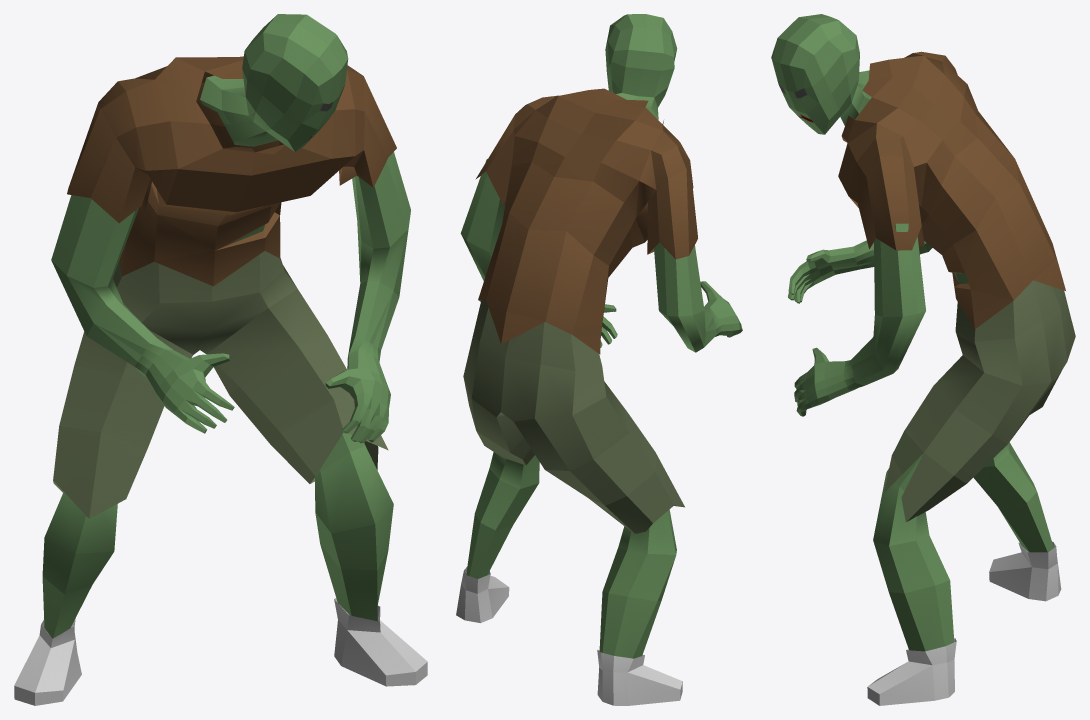
File: ZombieIdle(78).obj
3 views of the same model, side by side, from view 1: azimuth 30°, elevation 25°; view 2: azimuth 150°, elevation 25°; view 3: azimuth 270°, elevation 25° (orthographic). The views are drawn at different scales.
Parts seen in each view (by area): view 1: Object001; view 2: Object001; view 3: Object001.
Part boxes in pixels (box(x1,y1,x2,y2)): Object001: box(14, 14, 427, 705); Object001: box(456, 14, 742, 705); Object001: box(771, 14, 1075, 705).
Bounding box in the file's own units: 24.56 × 50.89 × 22.73.
